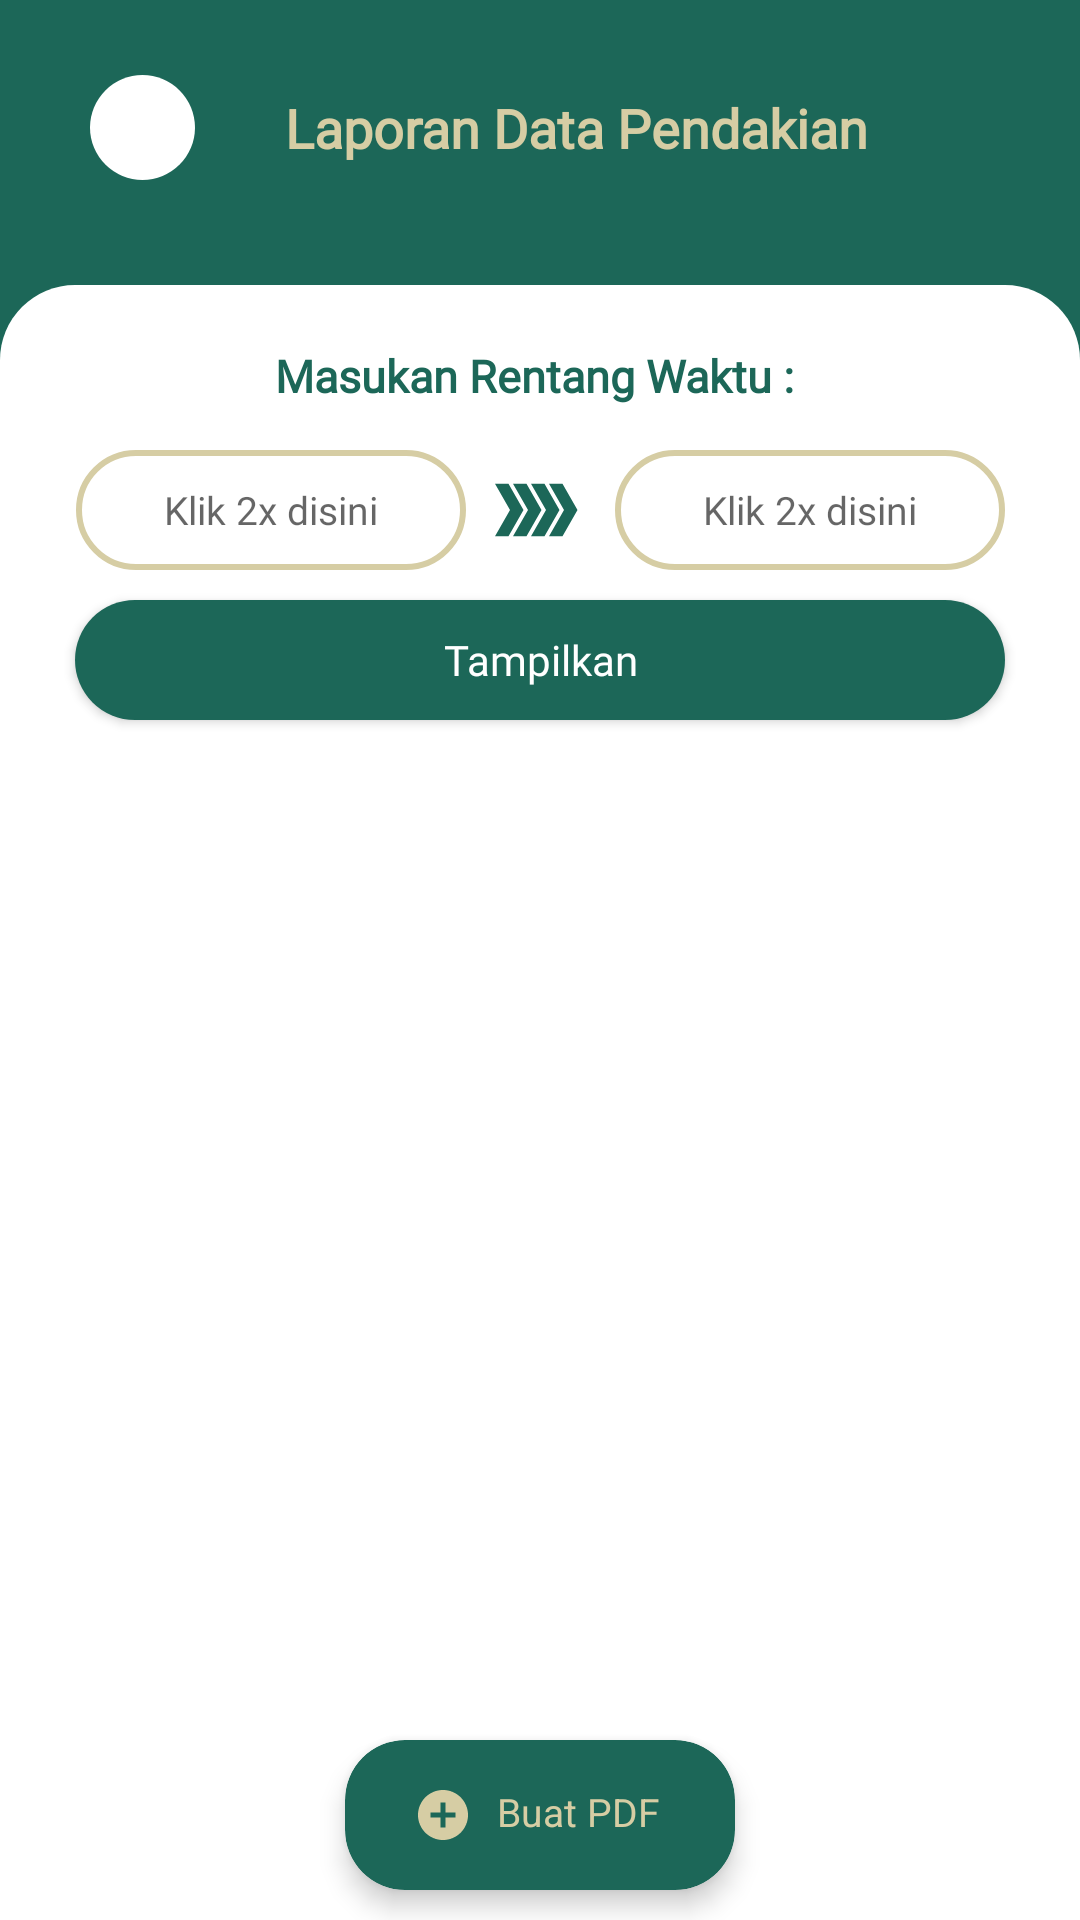

Point at icon controls on the screen. Image size 1080w x 1920h, points as (x=x, y=y).
add: (x=443, y=1815)
double arrow: (x=536, y=510)
